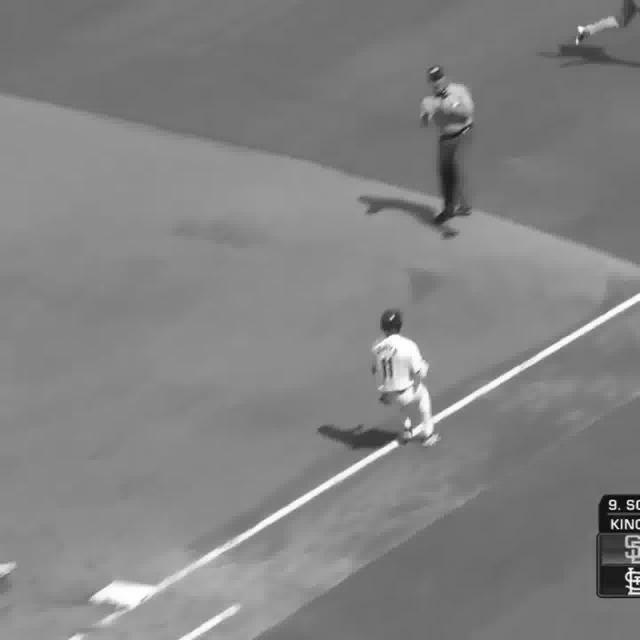base: (90, 580, 158, 614)
shoe: (423, 427, 447, 451), (399, 414, 416, 443)
